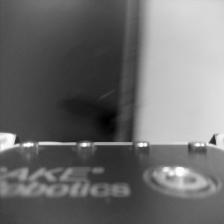Door Handle: (55, 90, 122, 137)
